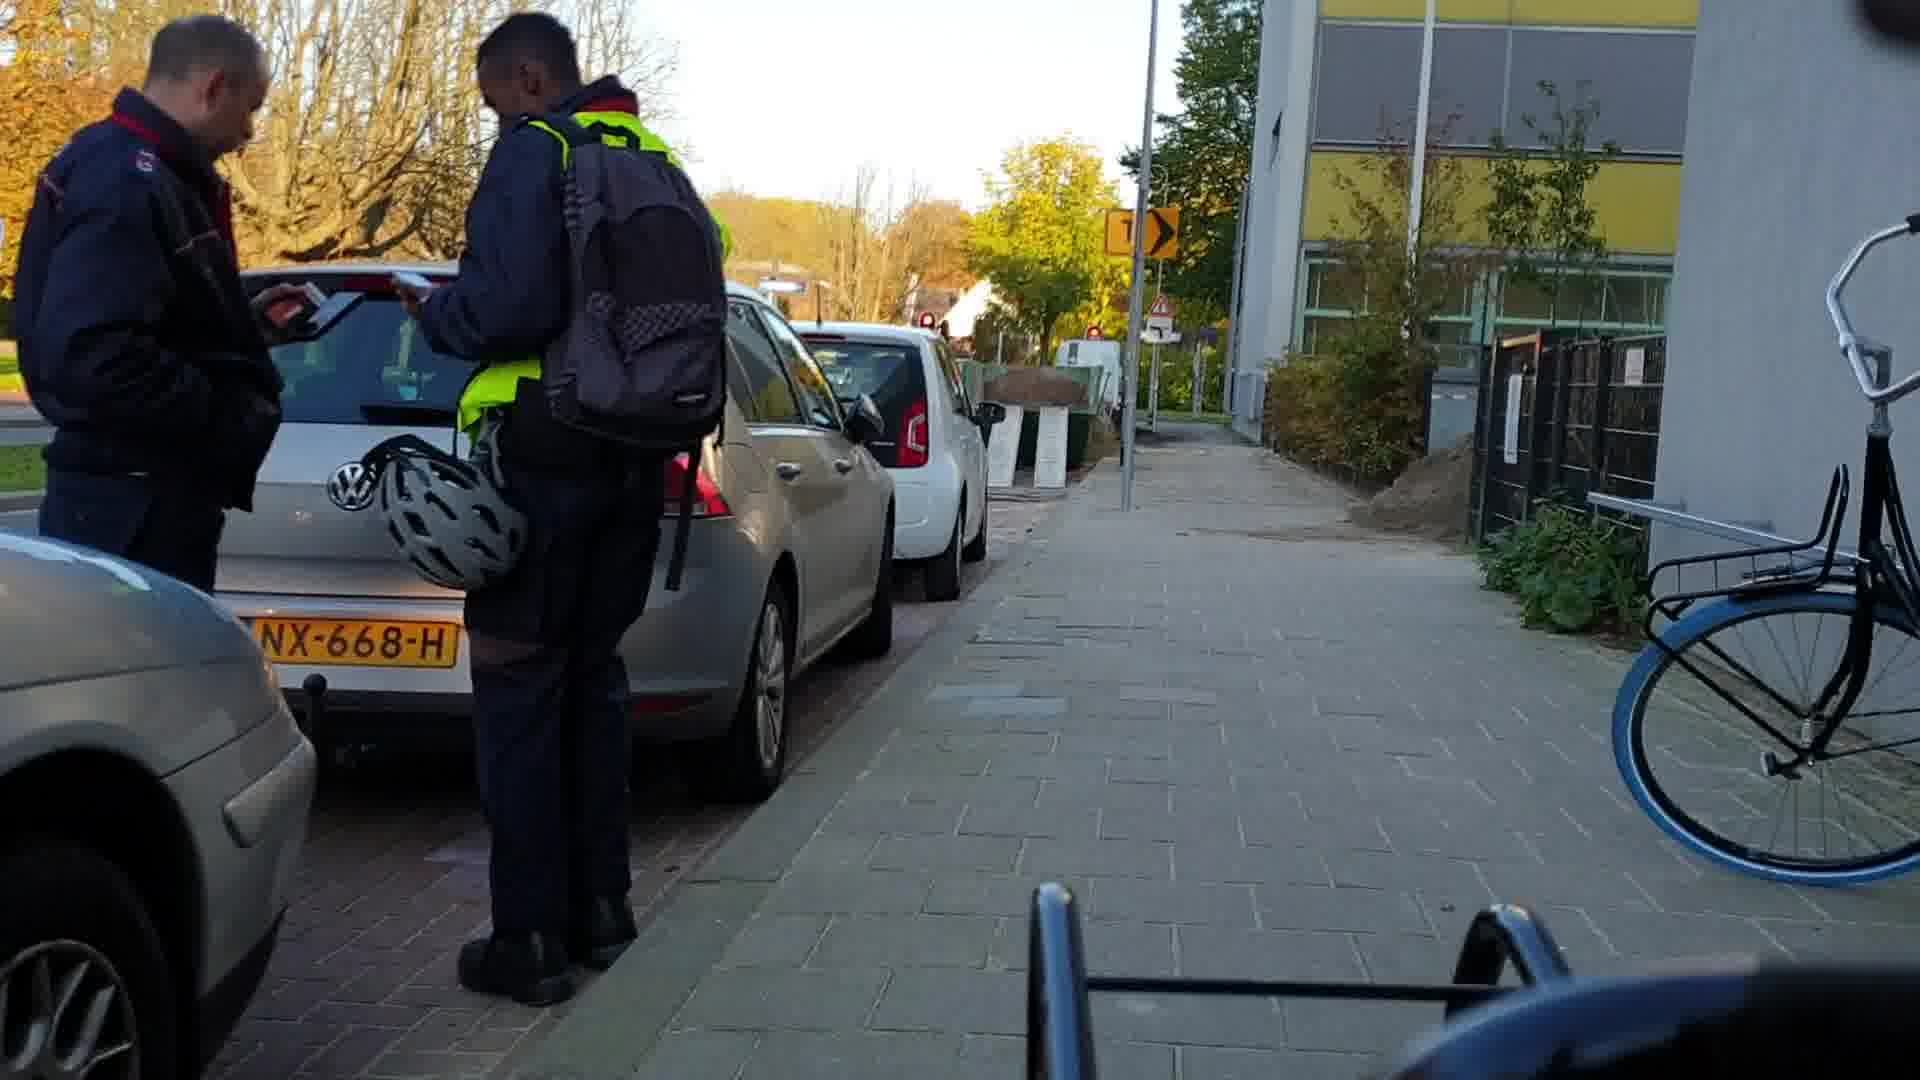plate: (251, 616, 459, 669)
